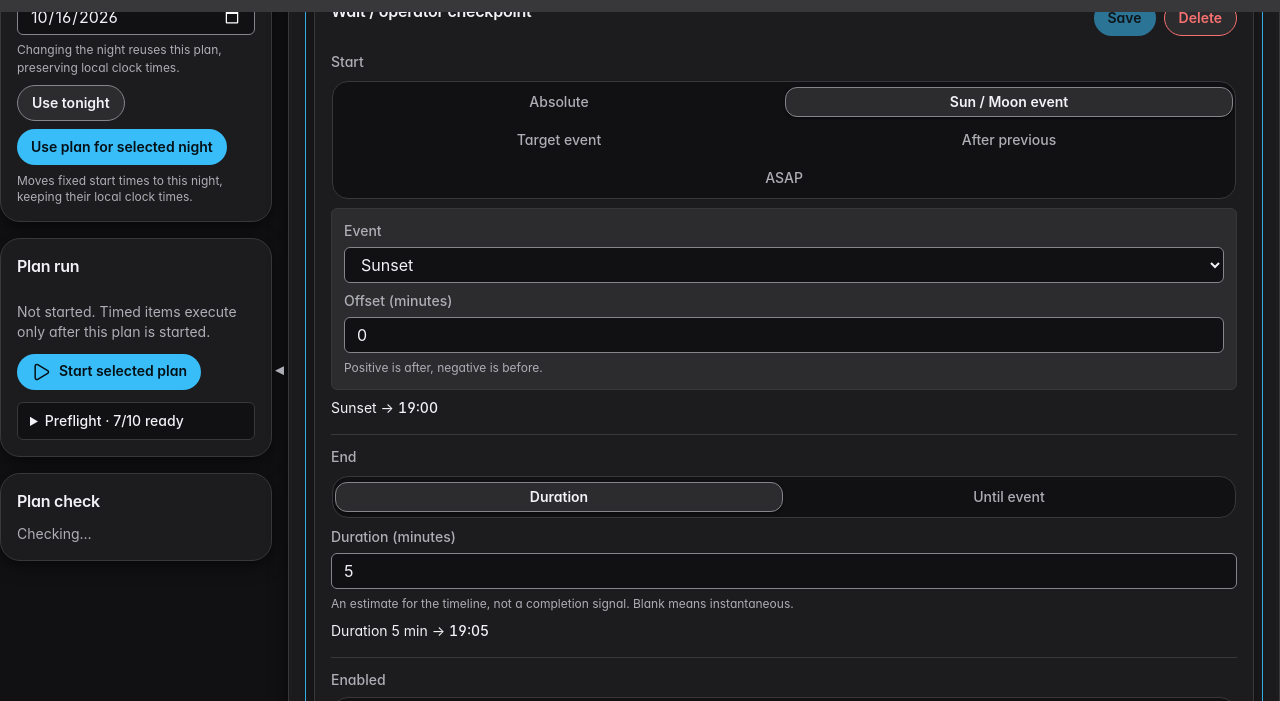
SchedulingTab › starts the selected plan for the exact night shown by the compiled schedule
(page scrolled)
What coordinates should you click on to do the following:
click the button "Start selected plan"
I would click on:
 (109, 372)
Its box is [17,354,201,390].
(page scrolled)
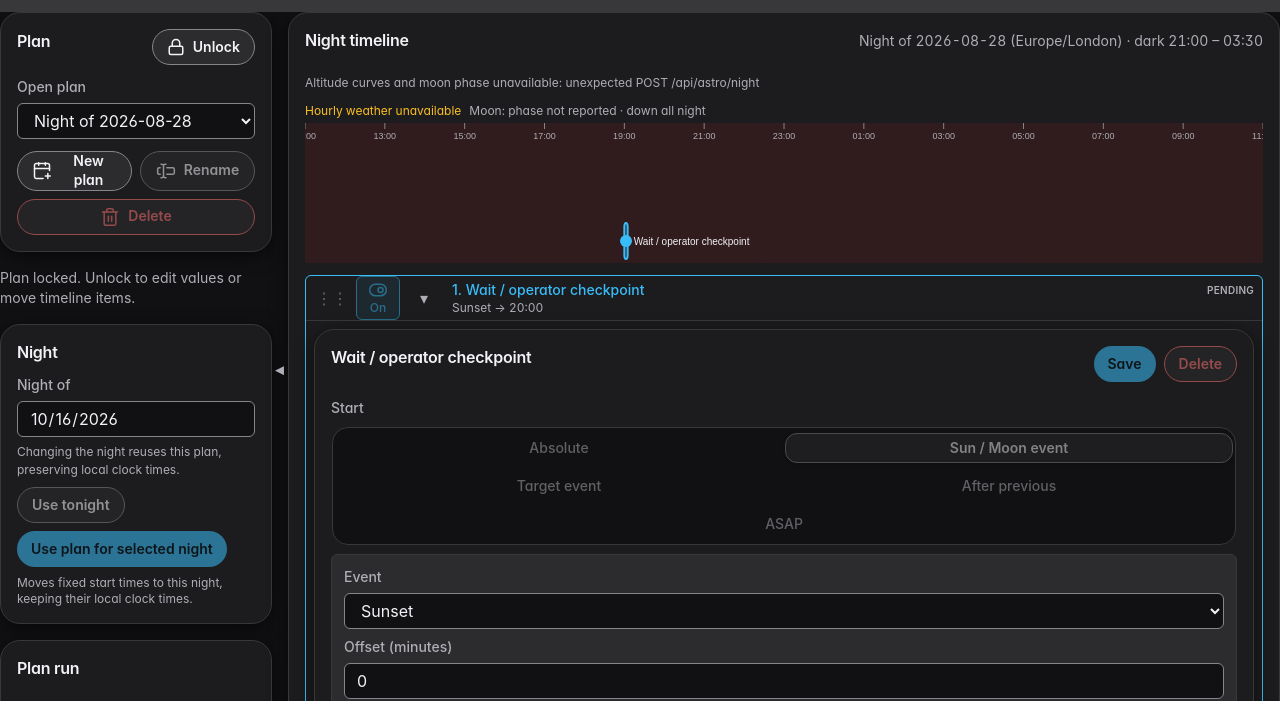
Expected: the button with aria-label "Unlock plan" is enabled, [152,29,255,65]
